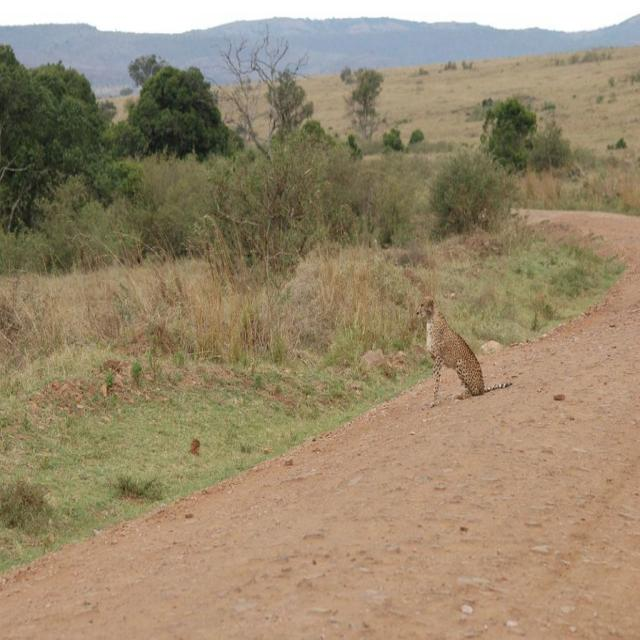Cheetah: (415, 297, 514, 409)
